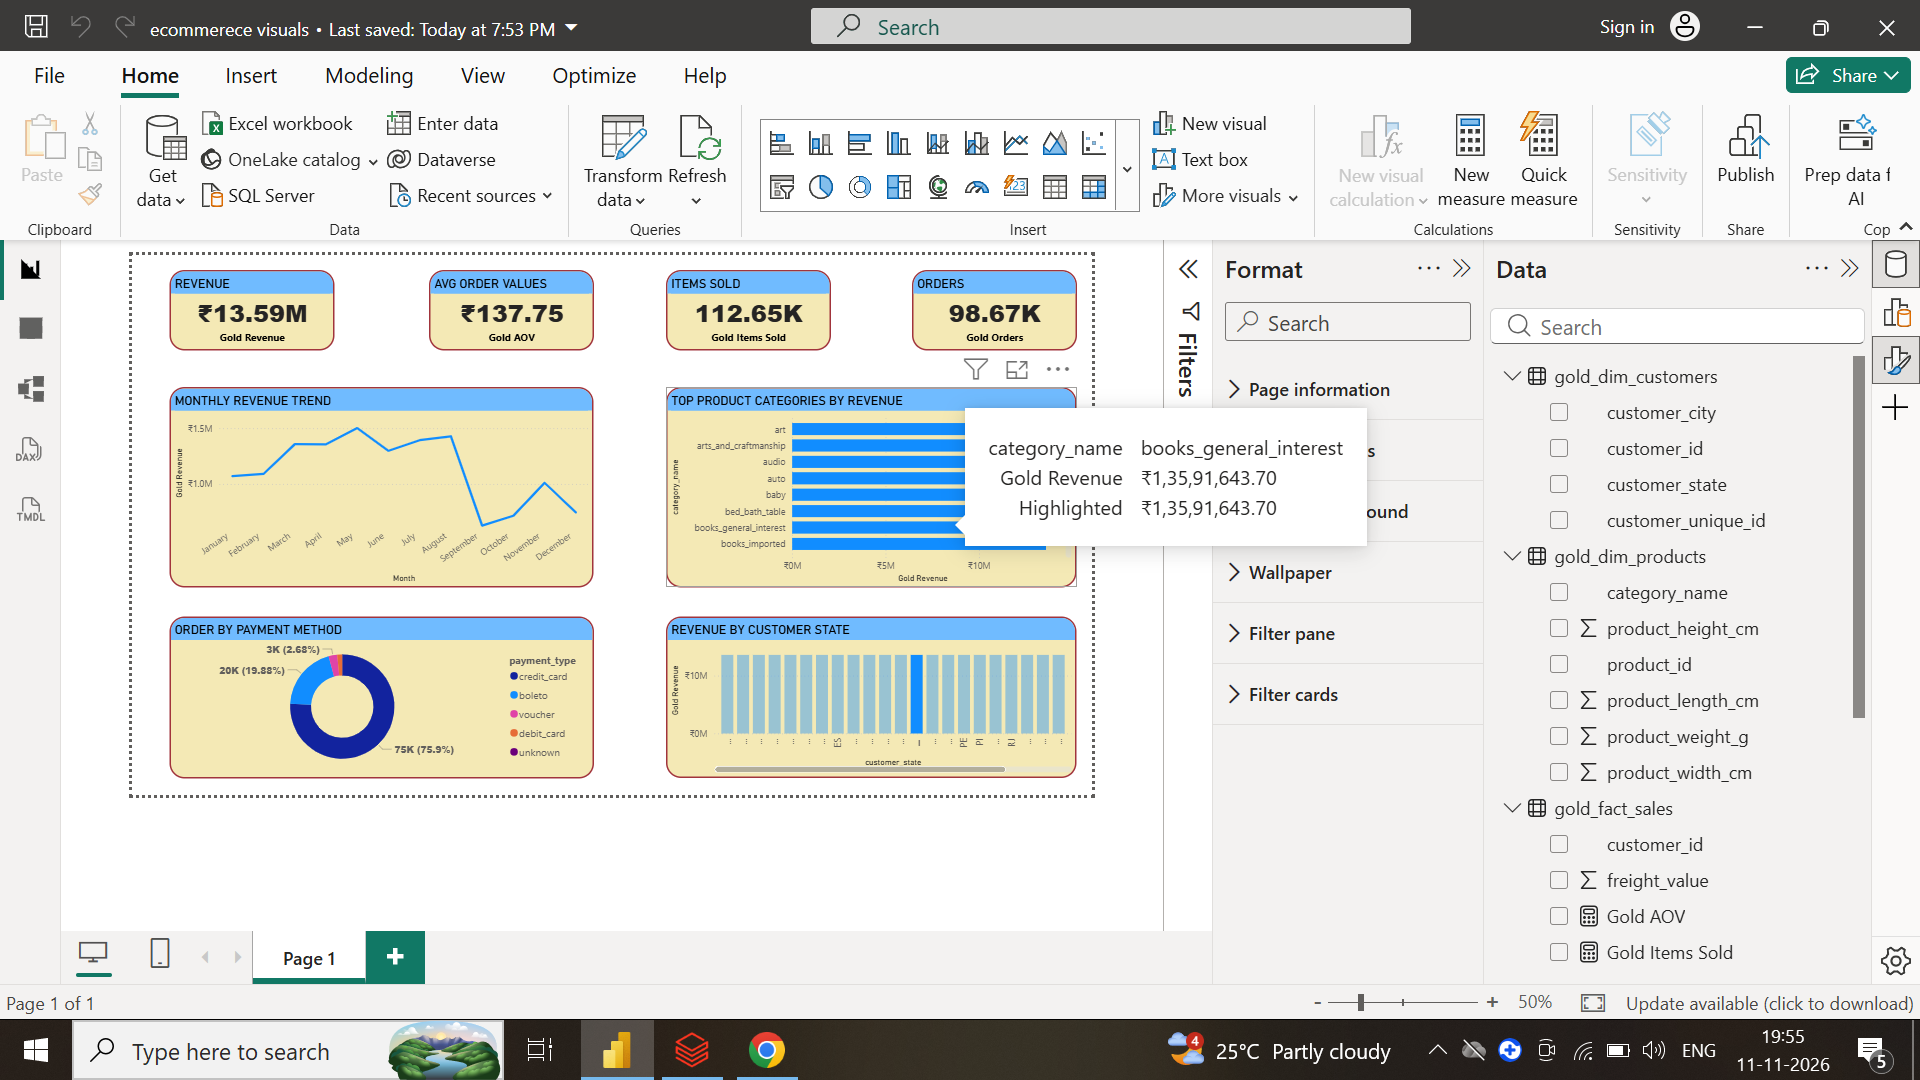

This screenshot's page, from the dashboard's own definition file:
{"tool":"powerbi","page":{"name":"Page 1","canvas":[1280,720],"ordinal":0},"visuals":[{"type":"card","title":"REVENUE","fields":{"Values":["gold_fact_sales.Gold Revenue"]},"box":[50,20,220,107.5],"z":0},{"type":"card","title":"ITEMS SOLD","fields":{"Values":["gold_fact_sales.Gold Items Sold"]},"box":[712.5,20,220,107.5],"z":1000},{"type":"card","title":"AVG ORDER VALUES","fields":{"Values":["gold_fact_sales.Gold AOV"]},"box":[395,20,220,107.5],"z":2000},{"type":"card","title":"ORDERS","fields":{"Values":["gold_fact_sales.Gold Orders"]},"box":[1040,20,220,107.5],"z":3000},{"type":"lineChart","title":"MONTHLY REVENUE TREND","fields":{"Category":["gold_fact_sales.order_purchase_timestamp.Variation.Date Hierarchy.Year","gold_fact_sales.order_purchase_timestamp.Variation.Date Hierarchy.Quarter","gold_fact_sales.order_purchase_timestamp.Variation.Date Hierarchy.Month","gold_fact_sales.order_purchase_timestamp.Variation.Date Hierarchy.Day"],"Y":["gold_fact_sales.Gold Revenue"]},"box":[50,175,565,267.5],"z":3001},{"type":"clusteredBarChart","title":"TOP PRODUCT CATEGORIES BY REVENUE","fields":{"Category":["gold_dim_products.category_name"],"Y":["gold_fact_sales.Gold Revenue"]},"box":[712.5,175,547.5,267.5],"z":3002},{"type":"donutChart","title":"ORDER BY PAYMENT METHOD","fields":{"Category":["gold_fact_sales.payment_type"],"Y":["gold_fact_sales.Gold Orders"]},"box":[50,482,566,216],"z":3003},{"type":"clusteredColumnChart","title":"REVENUE BY CUSTOMER STATE","fields":{"Category":["gold_dim_customers.customer_state"],"Y":["gold_fact_sales.Gold Revenue"]},"box":[712.5,482.5,547.5,215],"z":3004}]}

Visuals, with their boxes in screenshot pixels (x1, y1, x2, y2):
"REVENUE" card: [131, 44, 445, 197]
"ITEMS SOLD" card: [1077, 44, 1391, 197]
"AVG ORDER VALUES" card: [624, 44, 937, 197]
"ORDERS" card: [1544, 44, 1858, 197]
"MONTHLY REVENUE TREND" lineChart: [131, 265, 937, 646]
"TOP PRODUCT CATEGORIES BY REVENUE" clusteredBarChart: [1077, 265, 1858, 646]
"ORDER BY PAYMENT METHOD" donutChart: [131, 703, 939, 1011]
"REVENUE BY CUSTOMER STATE" clusteredColumnChart: [1077, 703, 1858, 1010]
